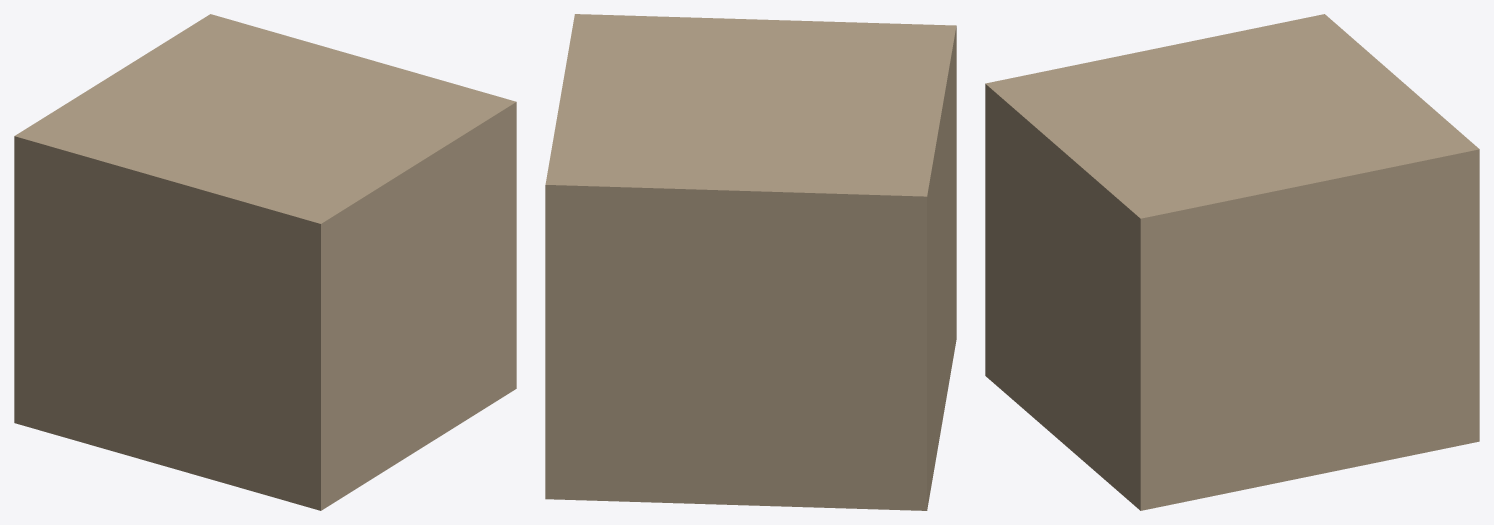
The model's file is bld_109034759.dae.
The picture shows the model from 3 angles, left to right: view 1: azimuth 30°, elevation 25°; view 2: azimuth 150°, elevation 25°; view 3: azimuth 270°, elevation 25°; orthographic projection. The views are drawn at different scales.
Visible parts, largest first — view 1: bld_109034759; view 2: bld_109034759; view 3: bld_109034759.
Boxes of the visible parts, bbox=[...] form: bld_109034759: bbox=[14, 14, 516, 510]; bld_109034759: bbox=[545, 14, 956, 510]; bld_109034759: bbox=[985, 14, 1479, 510].
Size of the model in its own units: 12.02 by 12.27 by 8.
